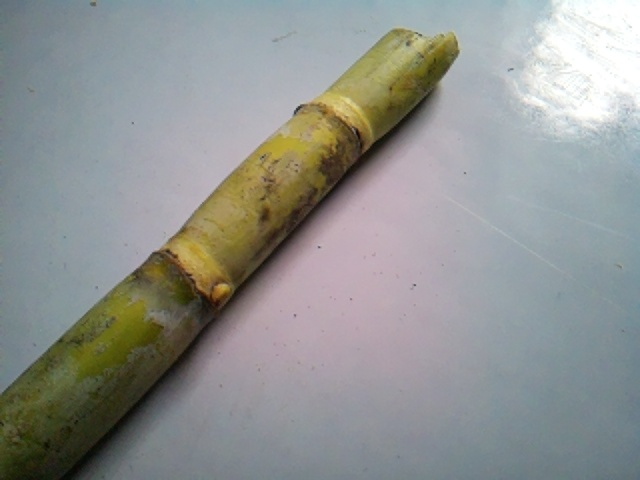Good Sugarcane: (0, 26, 463, 480)
Node: (137, 230, 236, 318), (281, 85, 385, 162)
